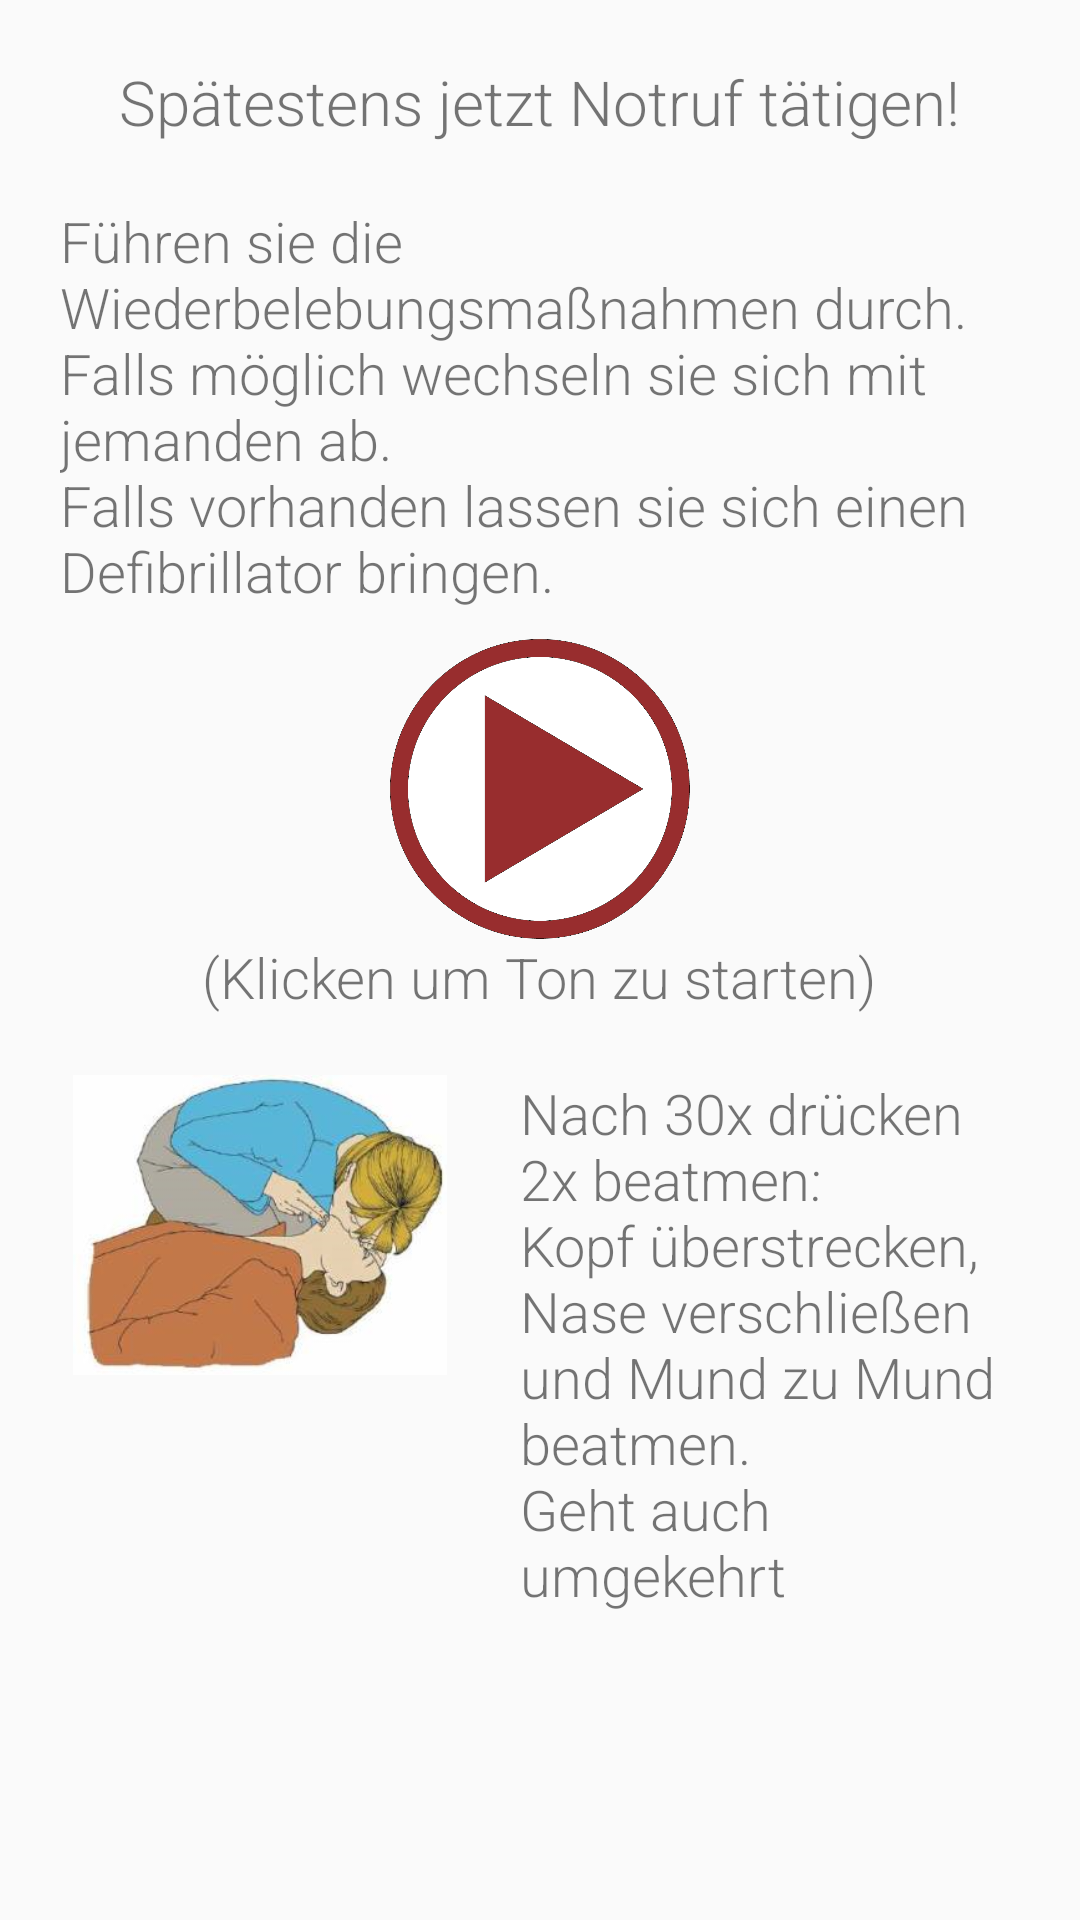

Icon bounding boxes for this 1080 x 1920 phone screenshot, format (x1, y1, x2, y2):
pic beatmung: (87, 1078, 443, 1368)
play: (390, 639, 690, 939)
